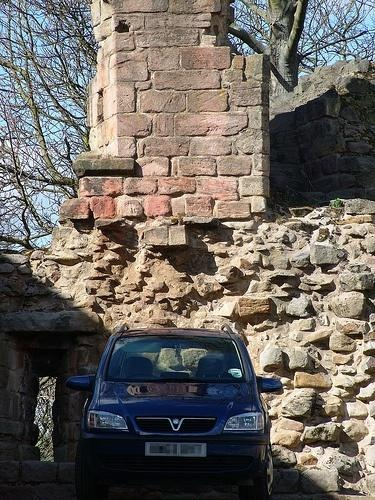car: (68, 324, 284, 498)
